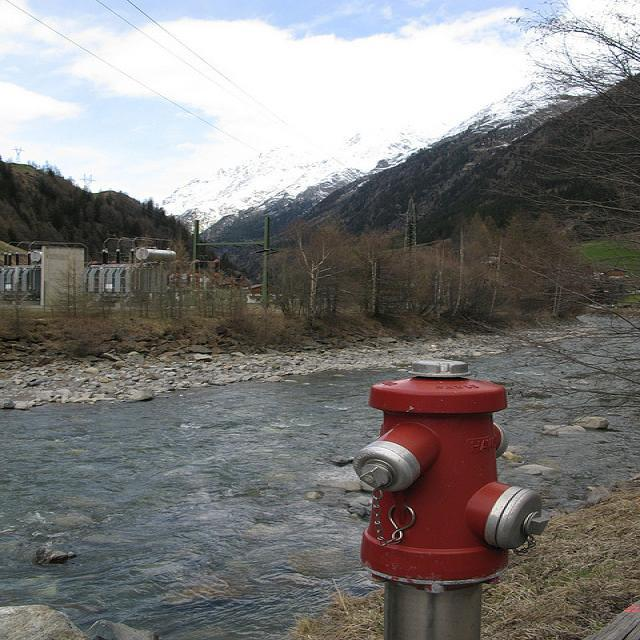fire_hydrant: (352, 359, 550, 640)
